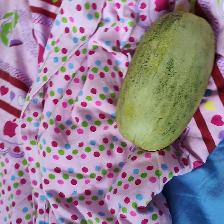gua: (131, 23, 193, 140)
